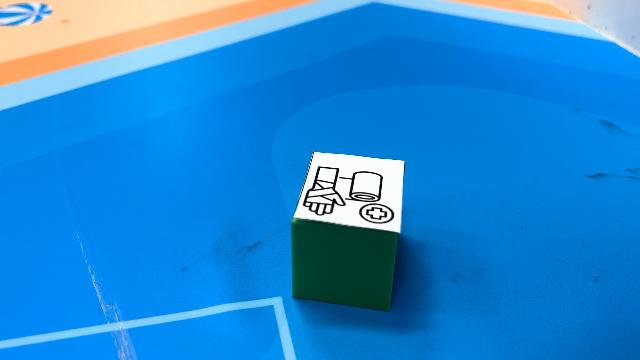bandage: (291, 151, 405, 312)
